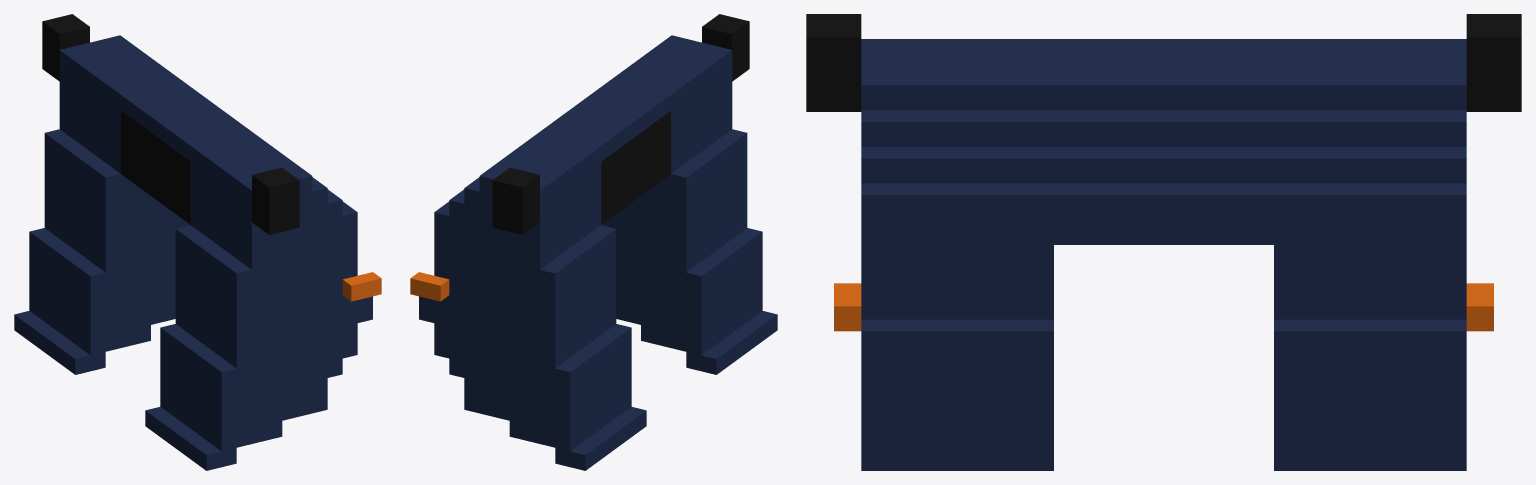
File: touring_bike_fairing.glb
3 renders of one model, left to right at view 1: azimuth 30°, elevation 25°; view 2: azimuth 150°, elevation 25°; view 3: azimuth 270°, elevation 25°, orthographic. The views are drawn at different scales.
Visible parts, largest first — view 1: body:compound; view 2: body:compound; view 3: body:compound.
Boxes of the visible parts, <box> form: body:compound: <box>14,14,381,470</box>; body:compound: <box>410,14,777,470</box>; body:compound: <box>806,14,1521,470</box>.
Bounding box in the file's own units: 0.3438 × 0.5625 × 0.8125.
